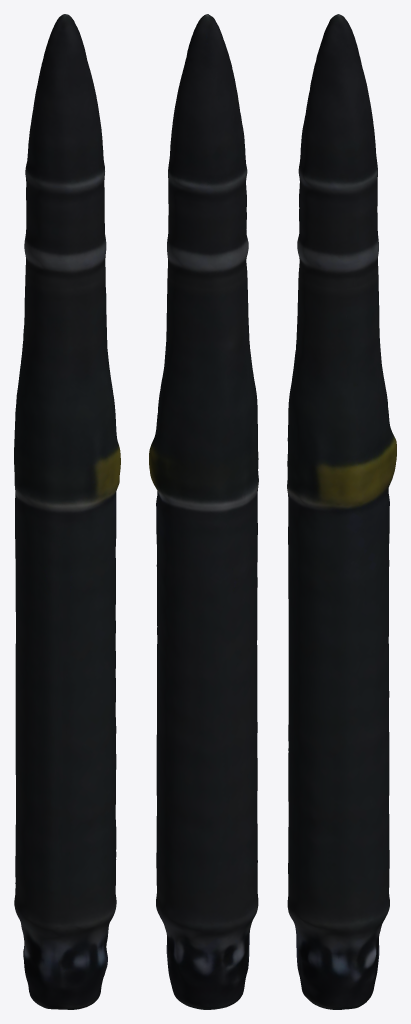
The model's file is b97bcd326fdd_jet_missile_black__.fbx.
3 renders of one model, left to right at view 1: azimuth 30°, elevation 25°; view 2: azimuth 150°, elevation 25°; view 3: azimuth 330°, elevation 25°, orthographic.
Parts seen in each view (by area): view 1: high_poly; view 2: high_poly; view 3: high_poly.
Boxes of the visible parts, left/top/right/bottom form: high_poly: left=14, top=14, right=120, bottom=1009; high_poly: left=149, top=14, right=258, bottom=1009; high_poly: left=287, top=14, right=396, bottom=1009.
Bounding box in the file's own units: 9.38 × 100 × 9.47.
